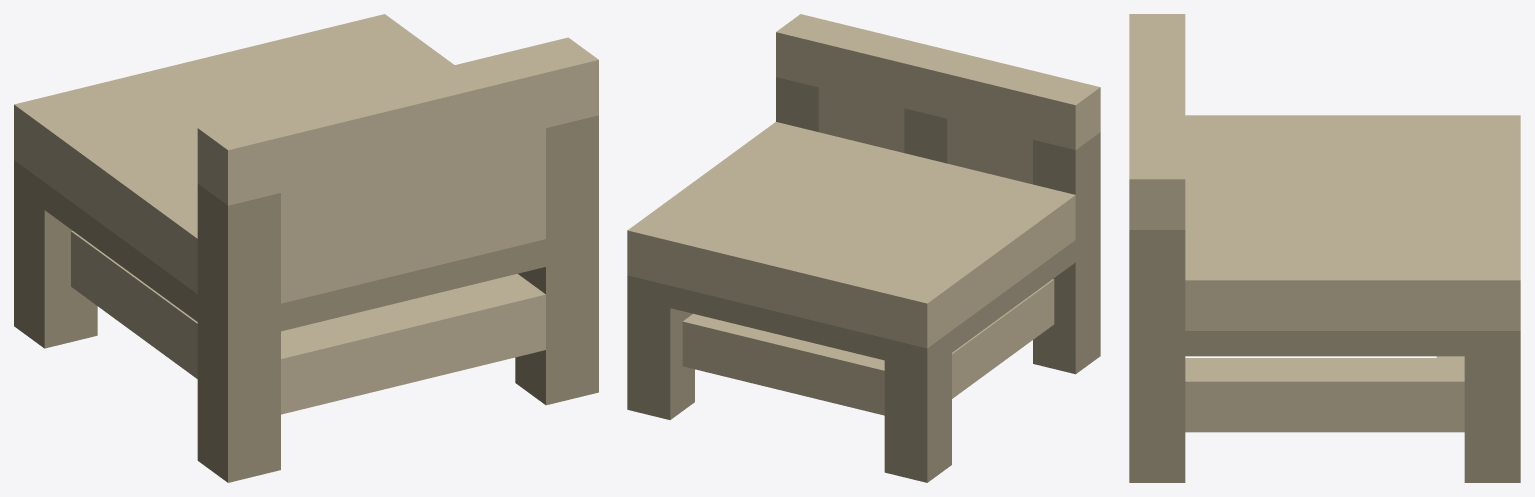
File: banco_oracion_pino_01.glb
The picture shows the model from 3 angles, left to right: view 1: azimuth 30°, elevation 25°; view 2: azimuth 150°, elevation 25°; view 3: azimuth 270°, elevation 25°; orthographic projection. The views are drawn at different scales.
Visible parts, largest first — view 1: banco_oracion_pino; view 2: banco_oracion_pino; view 3: banco_oracion_pino.
Boxes of the visible parts, x1=… form: banco_oracion_pino: x1=14, y1=14, x2=598, y2=482; banco_oracion_pino: x1=627, y1=14, x2=1100, y2=482; banco_oracion_pino: x1=1129, y1=14, x2=1520, y2=482.
Size of the model in its own units: 1 by 0.8571 by 1.
